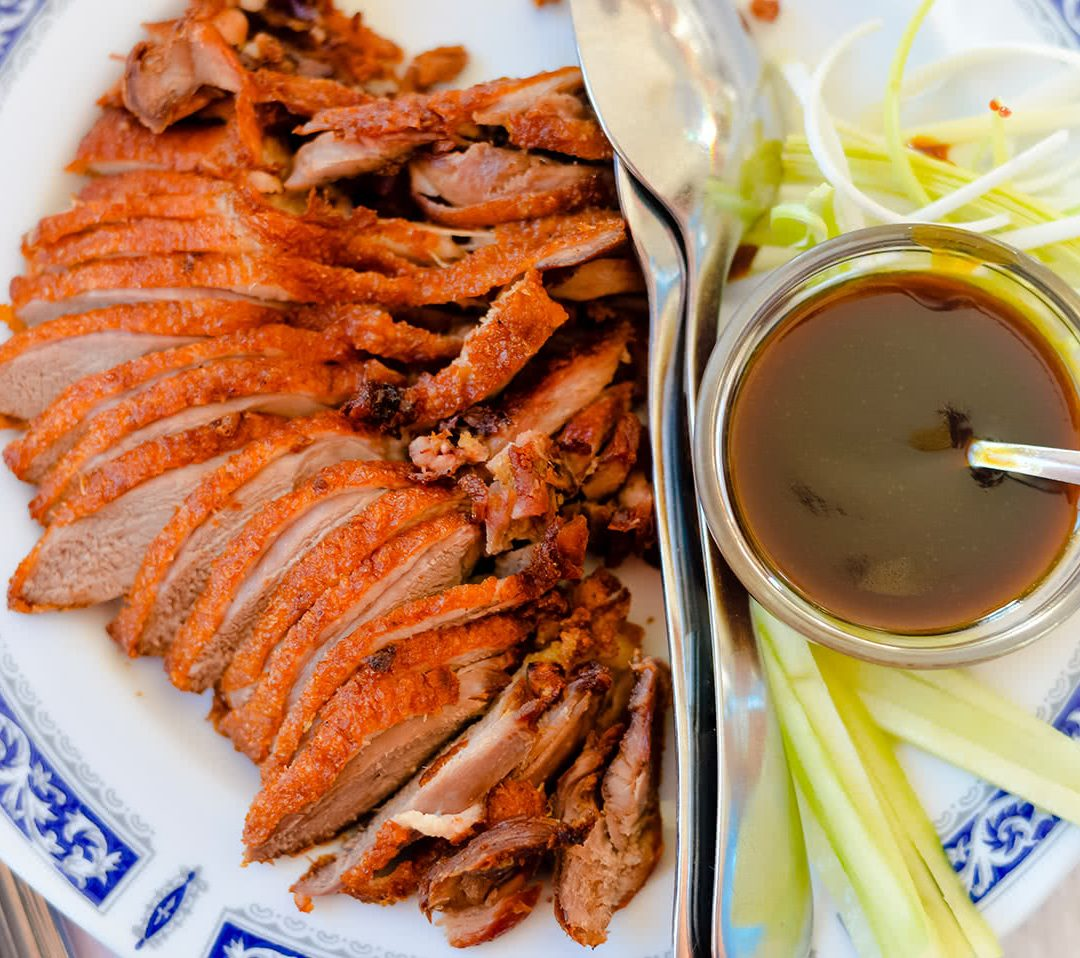peking_duck: (1, 13, 778, 958)
